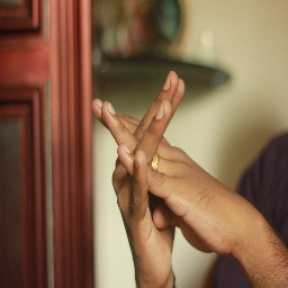W: (93, 66, 214, 258)
